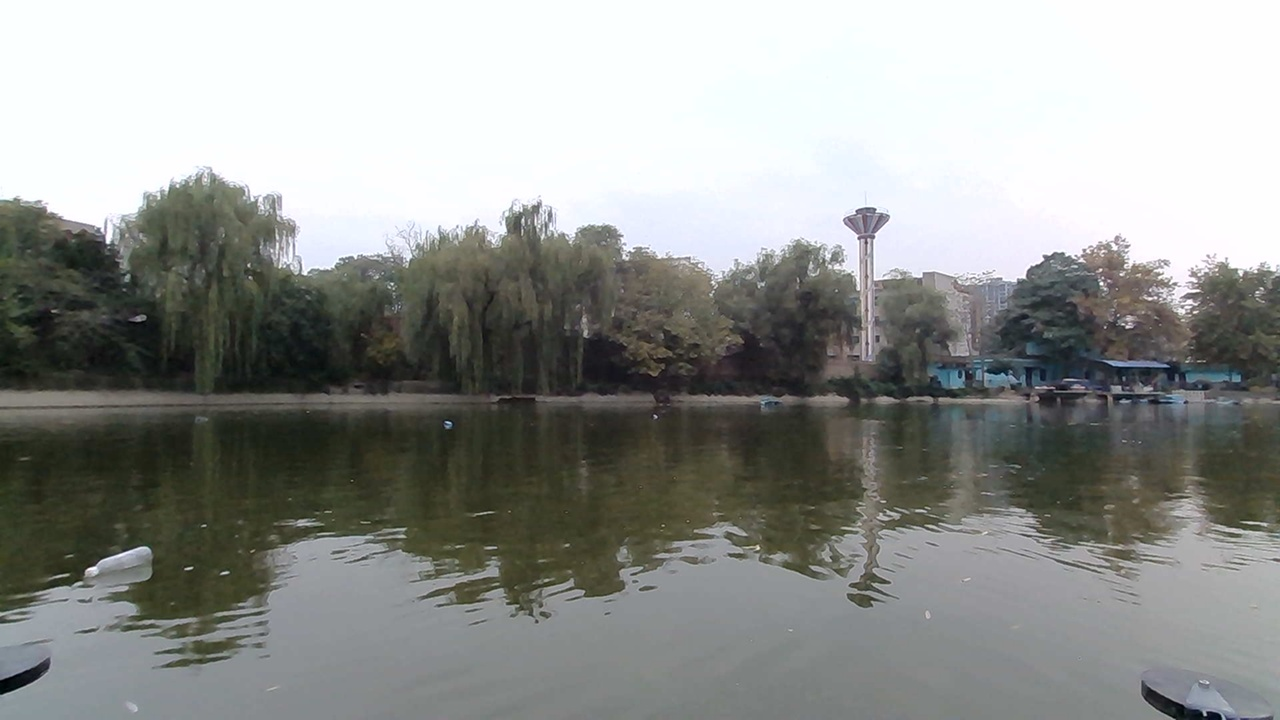bottle: (70, 523, 172, 597), (429, 410, 460, 428)
